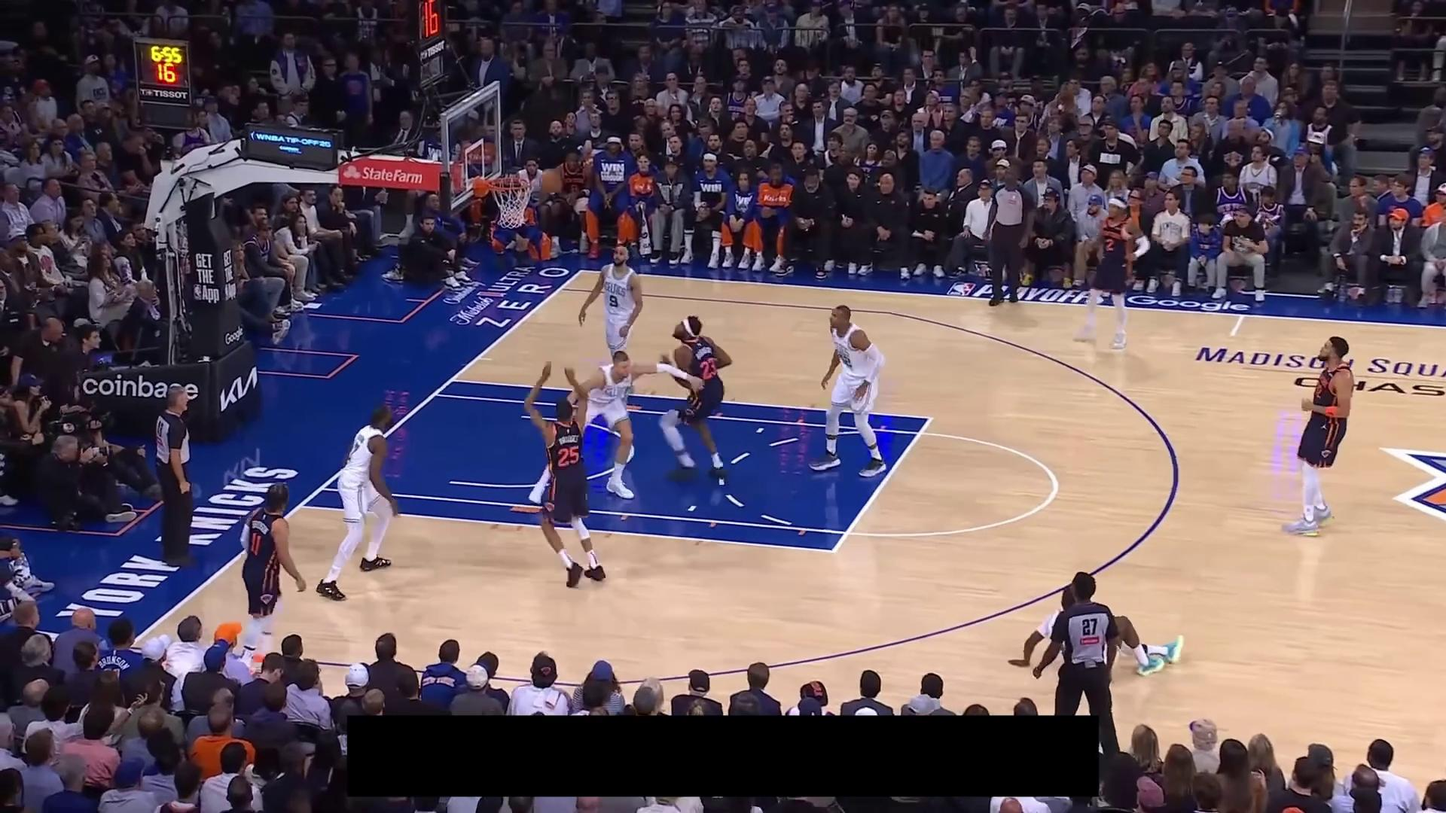ball: (541, 170, 563, 193)
number: (557, 446, 581, 467), (700, 357, 718, 379), (249, 531, 262, 556), (607, 293, 620, 309), (1104, 238, 1115, 251)
player: (528, 351, 703, 505), (524, 361, 606, 589), (315, 404, 399, 602), (1008, 584, 1184, 677), (1281, 335, 1357, 537), (806, 303, 891, 480), (237, 482, 307, 672), (1071, 194, 1152, 352), (659, 315, 733, 485), (579, 245, 643, 395)
referee: (1033, 571, 1123, 757), (154, 385, 199, 567), (981, 161, 1036, 306)
rim: (486, 176, 530, 191)
